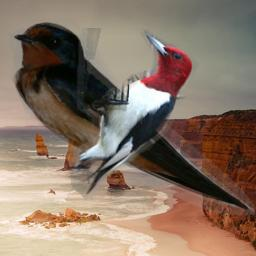Swallow: (7, 18, 255, 215)
Woodpecker: (66, 28, 203, 201)
